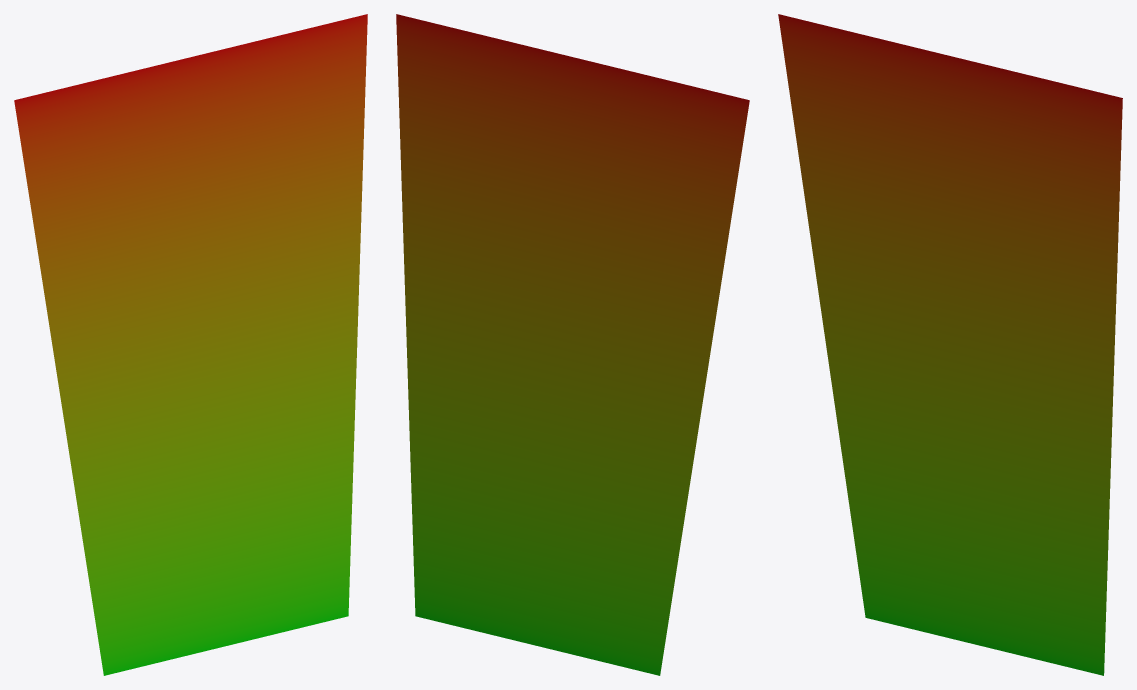
File: Snake Plant_LOD3_Var4_sgtmY.fbx
The picture shows the model from 3 angles, left to right: view 1: azimuth 30°, elevation 25°; view 2: azimuth 150°, elevation 25°; view 3: azimuth 330°, elevation 25°; orthographic projection. The views are drawn at different scales.
Visible parts, largest first — view 1: _9776_Var4_LOD3; view 2: _9776_Var4_LOD3; view 3: _9776_Var4_LOD3.
Part boxes in pixels (x1,y1,x2,y2): _9776_Var4_LOD3: (14,14,367,675); _9776_Var4_LOD3: (396,14,749,675); _9776_Var4_LOD3: (778,14,1122,675).
Bounding box in the file's own units: 70.18 × 113 × 2.24e-05.
